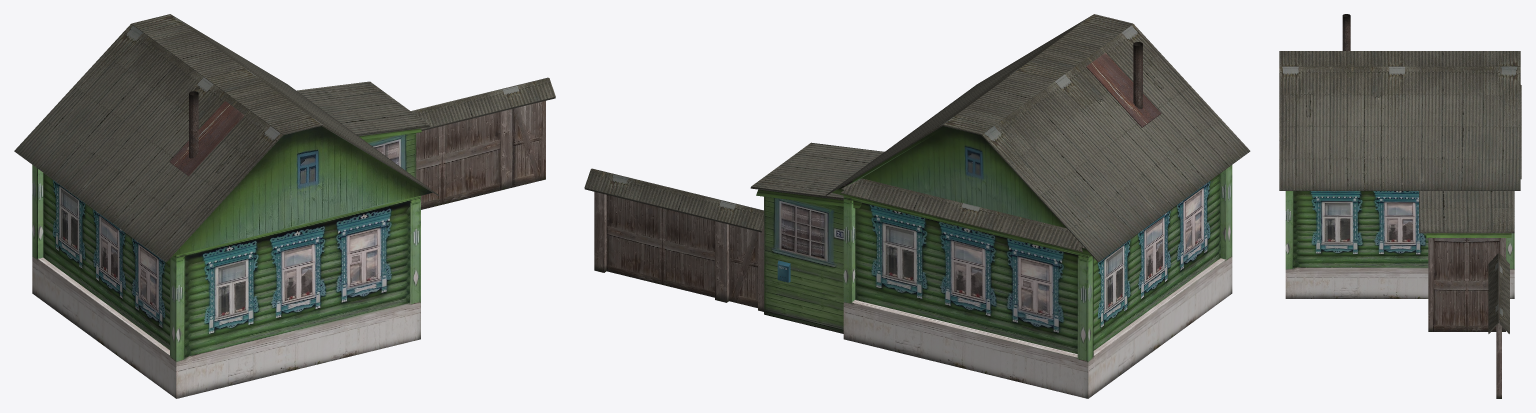
File: ru_village_hut_4.obj
3 views of the same model, side by side, from view 1: azimuth 30°, elevation 25°; view 2: azimuth 150°, elevation 25°; view 3: azimuth 270°, elevation 25° (orthographic). The views are drawn at different scales.
Parts seen in each view (by area): view 1: ru_village_hut_4; view 2: ru_village_hut_4; view 3: ru_village_hut_4.
Part boxes in pixels (x1,y1,x2,y2): ru_village_hut_4: [14, 14, 555, 398]; ru_village_hut_4: [584, 14, 1250, 398]; ru_village_hut_4: [1279, 14, 1521, 398].
Bounding box in the file's own units: 10.48 × 5.07 × 5.3.
1 material, 1 textured.
